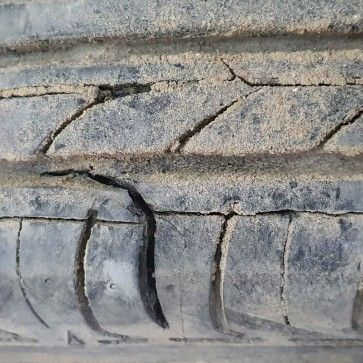tr: (38, 162, 172, 331)
